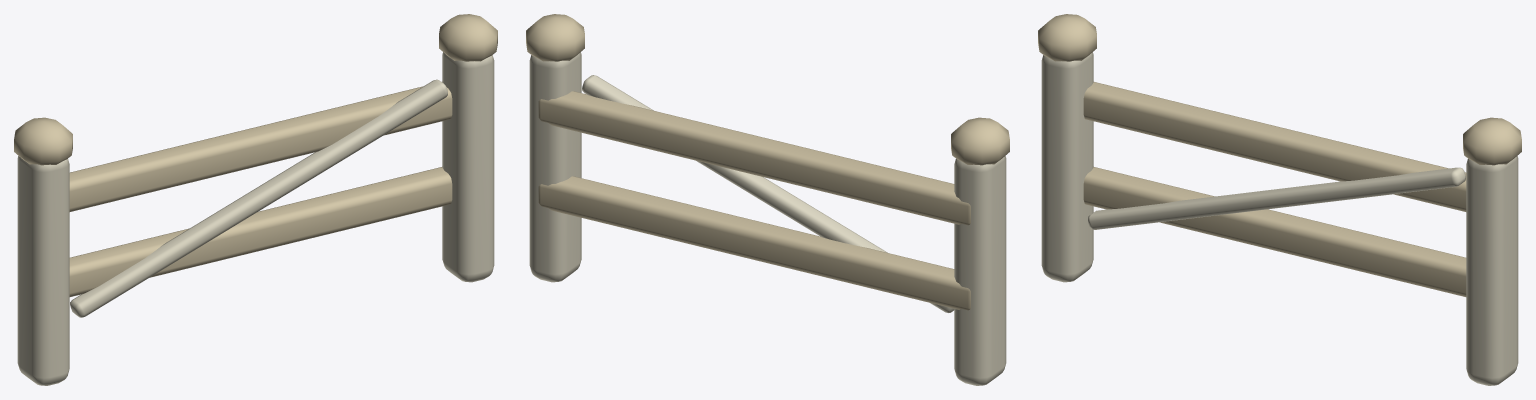
Rendered from fence.glb.
The picture shows the model from 3 angles, left to right: view 1: azimuth 30°, elevation 25°; view 2: azimuth 150°, elevation 25°; view 3: azimuth 330°, elevation 25°; orthographic projection.
Visible parts, largest first — view 1: fence_FARM_VERTEX_COLOR; view 2: fence_FARM_VERTEX_COLOR; view 3: fence_FARM_VERTEX_COLOR.
Part boxes in pixels (left/top/right/bottom): fence_FARM_VERTEX_COLOR: left=14, top=14, right=497, bottom=385; fence_FARM_VERTEX_COLOR: left=526, top=14, right=1009, bottom=385; fence_FARM_VERTEX_COLOR: left=1038, top=14, right=1521, bottom=385.
Size of the model in its own units: 2.1 by 1.09 by 0.2473.
